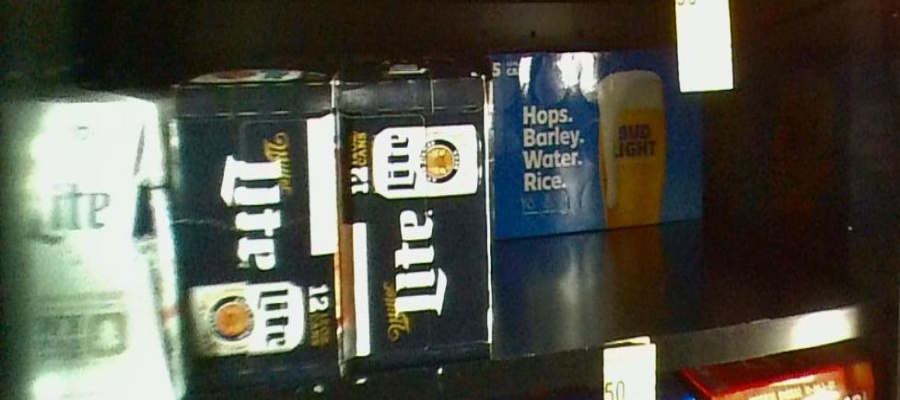bottle: (1, 85, 185, 395), (177, 79, 343, 389), (339, 77, 491, 363), (491, 53, 705, 225)
